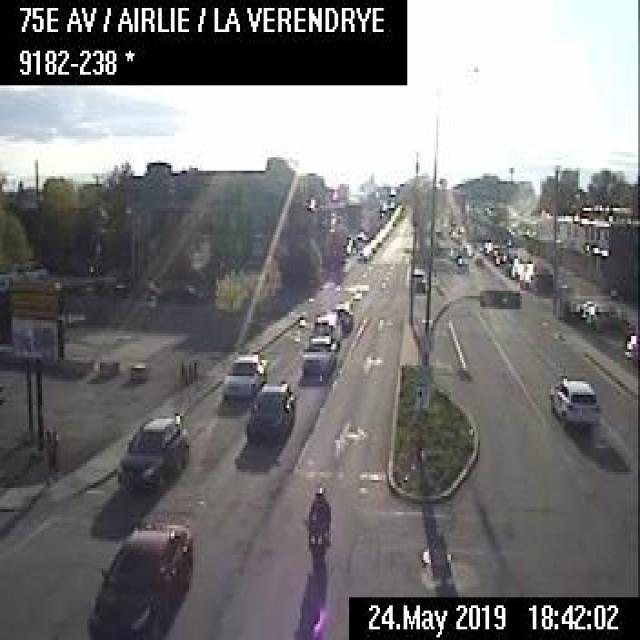pedestrian: (42, 423, 58, 485)
vehicle: (84, 520, 192, 637), (115, 410, 189, 490), (245, 381, 293, 448), (549, 373, 598, 427), (221, 349, 265, 405), (302, 480, 331, 555), (296, 334, 335, 376), (310, 310, 340, 342), (331, 301, 353, 332), (623, 328, 637, 364), (453, 253, 465, 270), (358, 248, 370, 262)
